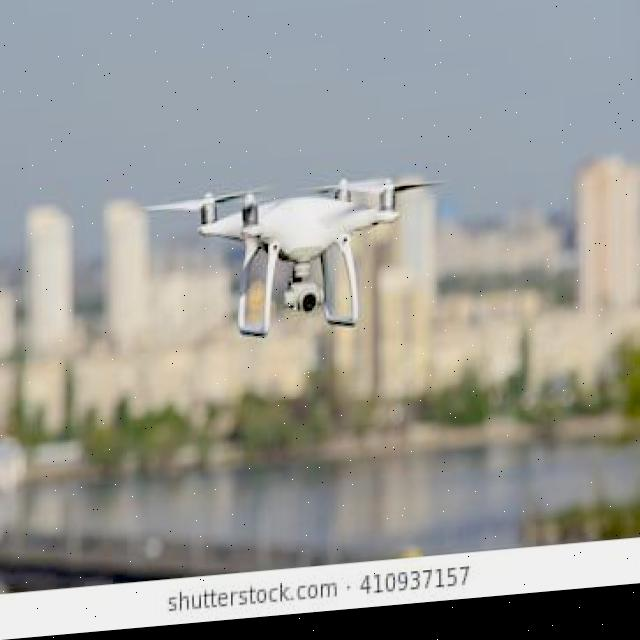drone: (121, 135, 459, 385)
